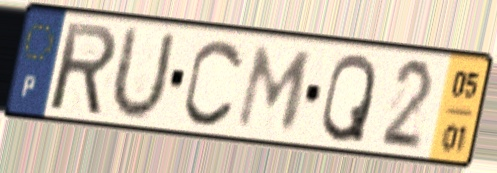2: (376, 56, 437, 155)
C: (180, 35, 248, 131)
M: (232, 42, 317, 134)
Q: (317, 50, 380, 146)
R: (48, 19, 119, 119)
U: (104, 23, 179, 124)
